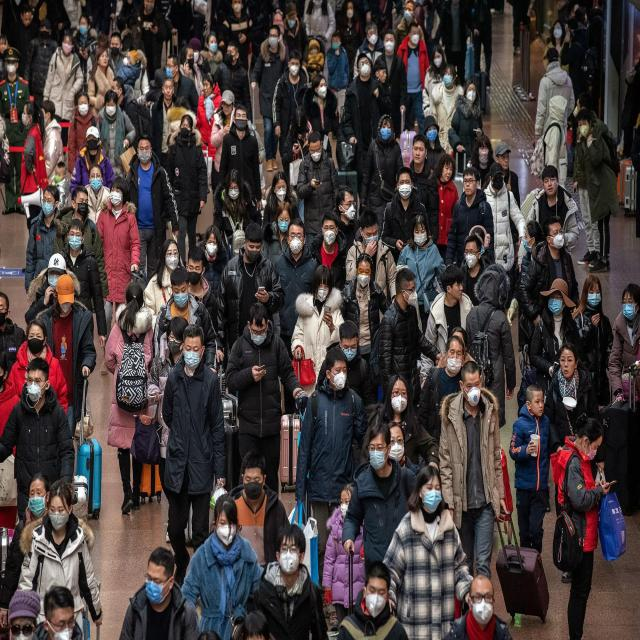face: (414, 462, 448, 516), (145, 558, 173, 606), (43, 600, 76, 640), (469, 576, 496, 624), (278, 531, 306, 576), (240, 218, 266, 266), (542, 278, 573, 318), (364, 574, 392, 618), (54, 272, 82, 316), (168, 264, 193, 310), (185, 242, 209, 286), (6, 607, 38, 639), (285, 214, 309, 256), (156, 233, 182, 271), (49, 492, 73, 532), (215, 505, 239, 545), (334, 184, 359, 222), (27, 477, 49, 520), (243, 462, 266, 503), (46, 251, 68, 293), (558, 340, 581, 380), (319, 209, 342, 247), (202, 221, 225, 259), (39, 183, 62, 220), (368, 432, 389, 472), (182, 334, 204, 372), (26, 367, 48, 405), (389, 377, 411, 415), (525, 381, 547, 419), (109, 174, 132, 210), (544, 213, 566, 250), (65, 216, 87, 253), (327, 355, 349, 392), (460, 369, 482, 406), (620, 281, 640, 321), (463, 233, 485, 269), (583, 273, 605, 309), (338, 328, 361, 362), (166, 323, 188, 358), (70, 184, 92, 218), (388, 423, 407, 462), (274, 199, 294, 236), (444, 340, 464, 377), (358, 218, 381, 250), (521, 220, 542, 255), (398, 274, 418, 310), (582, 429, 603, 463), (226, 166, 245, 202), (250, 313, 269, 349), (135, 131, 155, 165), (540, 164, 560, 198), (28, 324, 48, 358), (306, 130, 326, 163), (272, 167, 290, 203), (462, 165, 481, 198), (22, 97, 42, 128), (437, 153, 457, 184), (4, 45, 22, 79), (411, 135, 428, 171), (424, 112, 443, 144), (88, 161, 107, 193), (354, 258, 373, 290), (340, 487, 357, 522), (572, 91, 592, 120), (488, 160, 506, 192), (376, 112, 395, 142), (40, 96, 57, 129), (178, 111, 196, 142), (495, 140, 512, 172), (232, 102, 250, 132), (85, 124, 103, 154), (314, 277, 332, 307), (396, 171, 413, 202), (220, 87, 237, 117), (576, 109, 593, 139), (474, 134, 492, 162), (412, 220, 430, 248), (59, 28, 77, 56), (104, 89, 121, 118), (225, 39, 242, 67), (75, 90, 92, 118), (266, 22, 283, 50), (109, 29, 125, 58), (286, 50, 303, 77), (165, 52, 182, 79), (446, 278, 464, 303), (38, 17, 56, 42), (356, 51, 372, 79), (442, 62, 458, 90), (187, 37, 204, 63), (312, 73, 329, 99), (382, 27, 398, 54), (202, 70, 217, 98), (285, 1, 300, 29), (430, 43, 446, 69), (180, 43, 196, 69), (374, 58, 390, 84), (364, 20, 380, 46), (464, 79, 480, 104), (78, 12, 93, 38), (161, 77, 177, 100), (20, 3, 34, 29), (54, 159, 69, 183), (407, 22, 422, 46), (205, 31, 220, 54), (123, 49, 139, 70), (402, 1, 417, 23), (330, 30, 344, 53), (0, 294, 10, 326), (342, 1, 357, 21), (95, 46, 109, 67), (453, 329, 466, 349), (142, 0, 157, 17), (230, 0, 245, 16), (308, 37, 322, 54)
